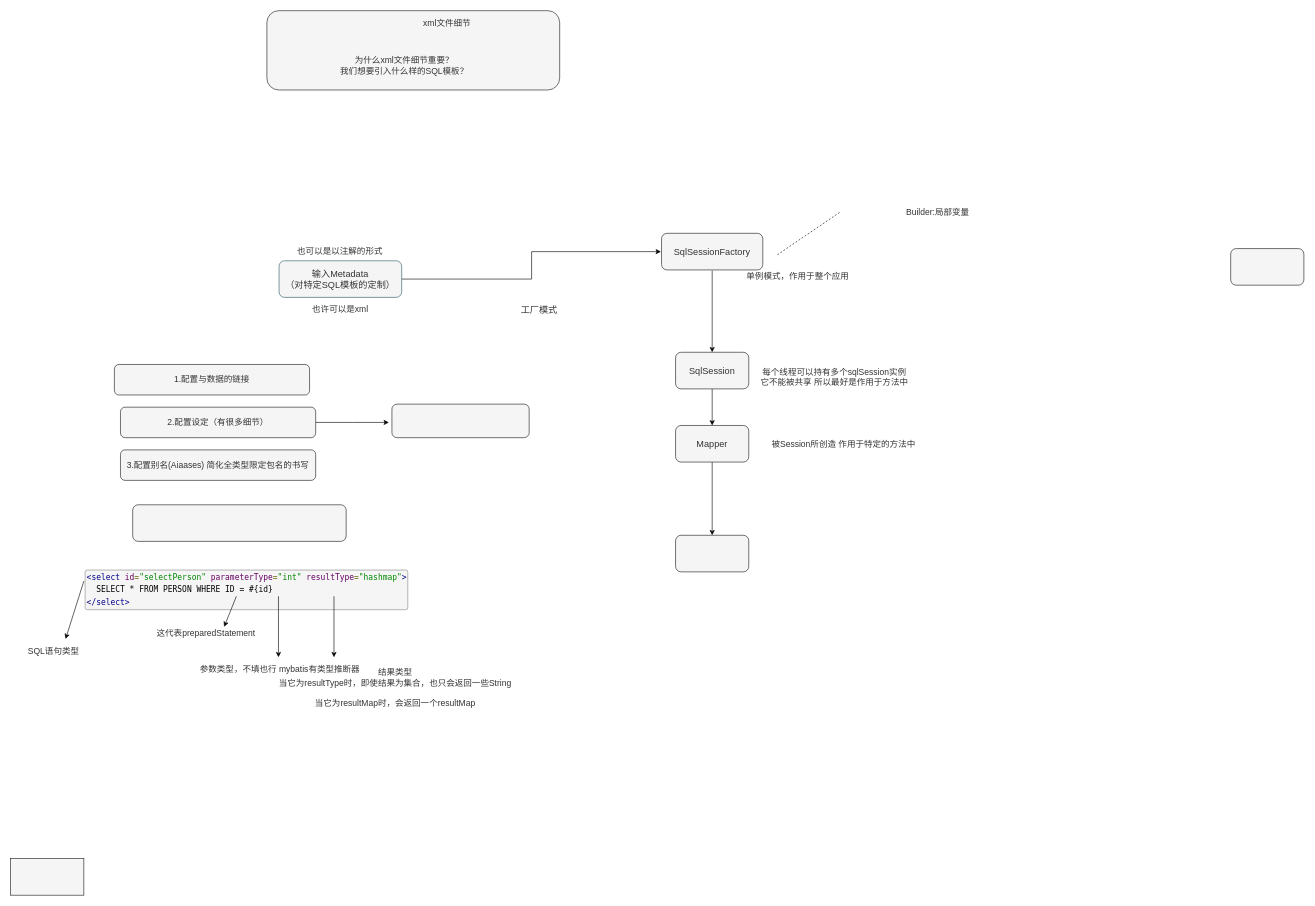
This 1315x906 diagram has some shape labels left out. Here are the shapes that lost their labels. From the top down, the centre of each, then its label:
At point 460,421: "包括使用日志（logging）".
At point 239,522: "4.配置映射器，它是核心，为什么？因为它是SQL语句逻辑的实现呀。".
At point 712,553: "返回结果".
